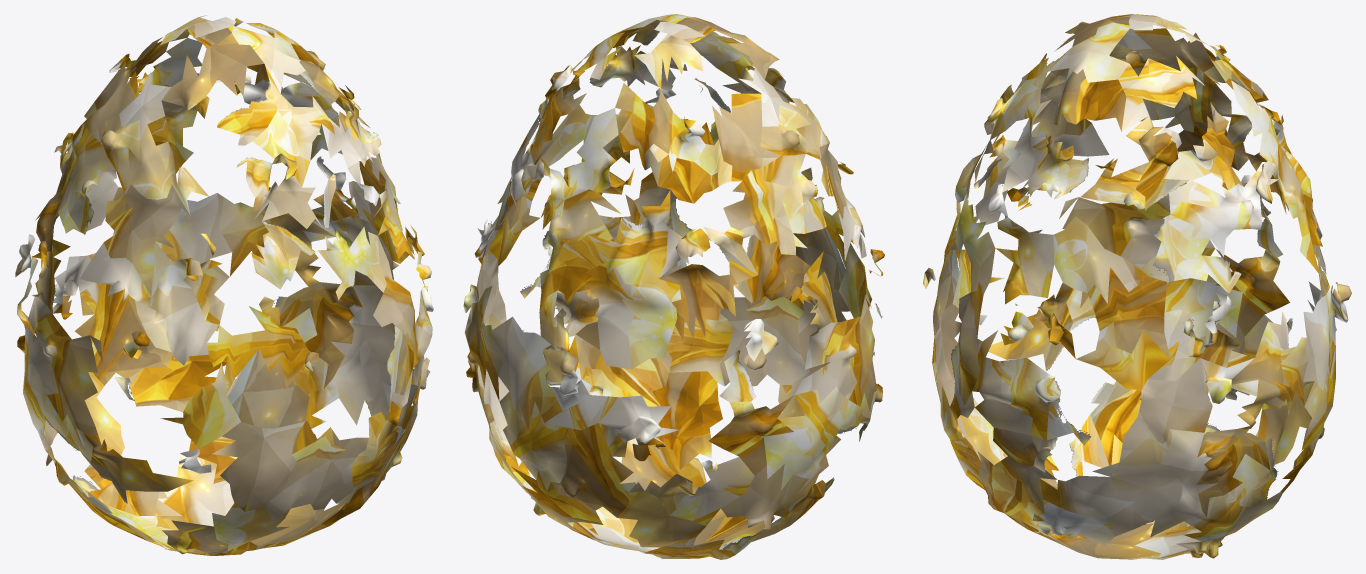
File: bloom_egg_7500tris.fbx
3 views of the same model, side by side, from view 1: azimuth 30°, elevation 25°; view 2: azimuth 150°, elevation 25°; view 3: azimuth 270°, elevation 25° (orthographic).
Visible parts, largest first — view 1: bloom_egg_decimated; view 2: bloom_egg_decimated; view 3: bloom_egg_decimated.
Boxes of the visible parts, x1=… form: bloom_egg_decimated: x1=15, y1=15, x2=433, y2=555; bloom_egg_decimated: x1=463, y1=14, x2=884, y2=559; bloom_egg_decimated: x1=923, y1=14, x2=1351, y2=559.
Bounding box in the file's own units: 1.39 × 1.91 × 1.44.
